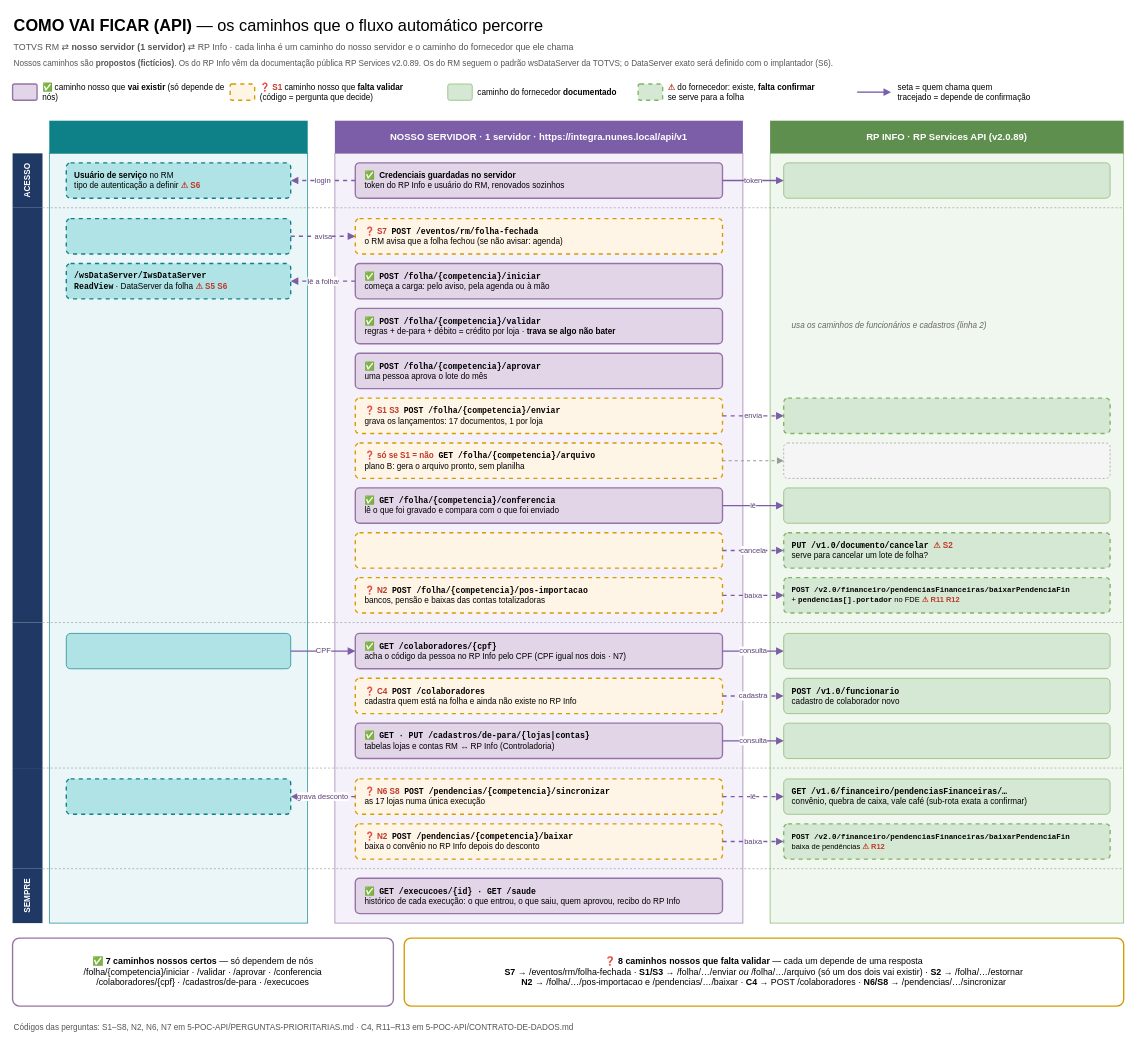
Some shapes in this 1139 by 1049 pixel diagram are drawn without their labels. Each missing label, with the centre of its shape:
"/wsDataServer/IwsDataServer SaveRecord · FopLancExternoData ⚠ S8" belongs at pixel 178 796.
"1 · FOLHA (RM → nós → RP Info)" belongs at pixel 27 414.
"2 · FUNCIONÁRIOS" belongs at pixel 27 695.
"3 · PENDÊNCIAS" belongs at pixel 27 818.
"Aviso de folha fechada o RM consegue avisar? ⚠ S7" belongs at pixel 178 236.
"CPF vem junto com a folha cadastro: DataServer FopFuncData" belongs at pixel 178 651.
"GET /v1.0/contabil/movimentos filtro por competência e loja a confirmar (R13)" belongs at pixel 946 505.
"GET /v1.1/financeiro/planocontas confere se a conta existe no RP Info" belongs at pixel 946 740.
"GET /v1.2/funcionario/codcpf/{codcpf} consulta só a pessoa que está na folha" belongs at pixel 946 651.
"Plano B : importar o arquivo gerado (Ctrl+D) sem planilha e sem digitação" belongs at pixel 946 460.
"POST /v1.0/fde ⚠ S1 S3 DocumentoFDE · contrapartidas[] = os lançamentos" belongs at pixel 946 415.
"POST /v1.2/auth devolve o token usado em todas as chamadas" belongs at pixel 946 180.
"TOTVS RM · origem da folha" belongs at pixel 178 136.
"❓ S2 POST /folha/{competencia}/estornar desfaz um envio inteiro (reprocesso)" belongs at pixel 538 550.
